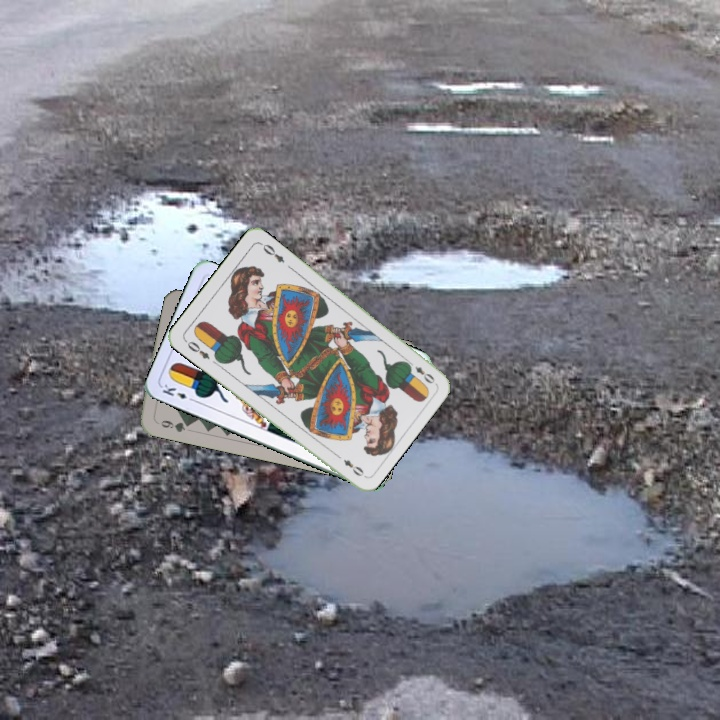EK: (158, 380, 198, 404)
EO: (403, 357, 438, 386), (181, 336, 212, 362)
G9: (152, 416, 193, 435)
